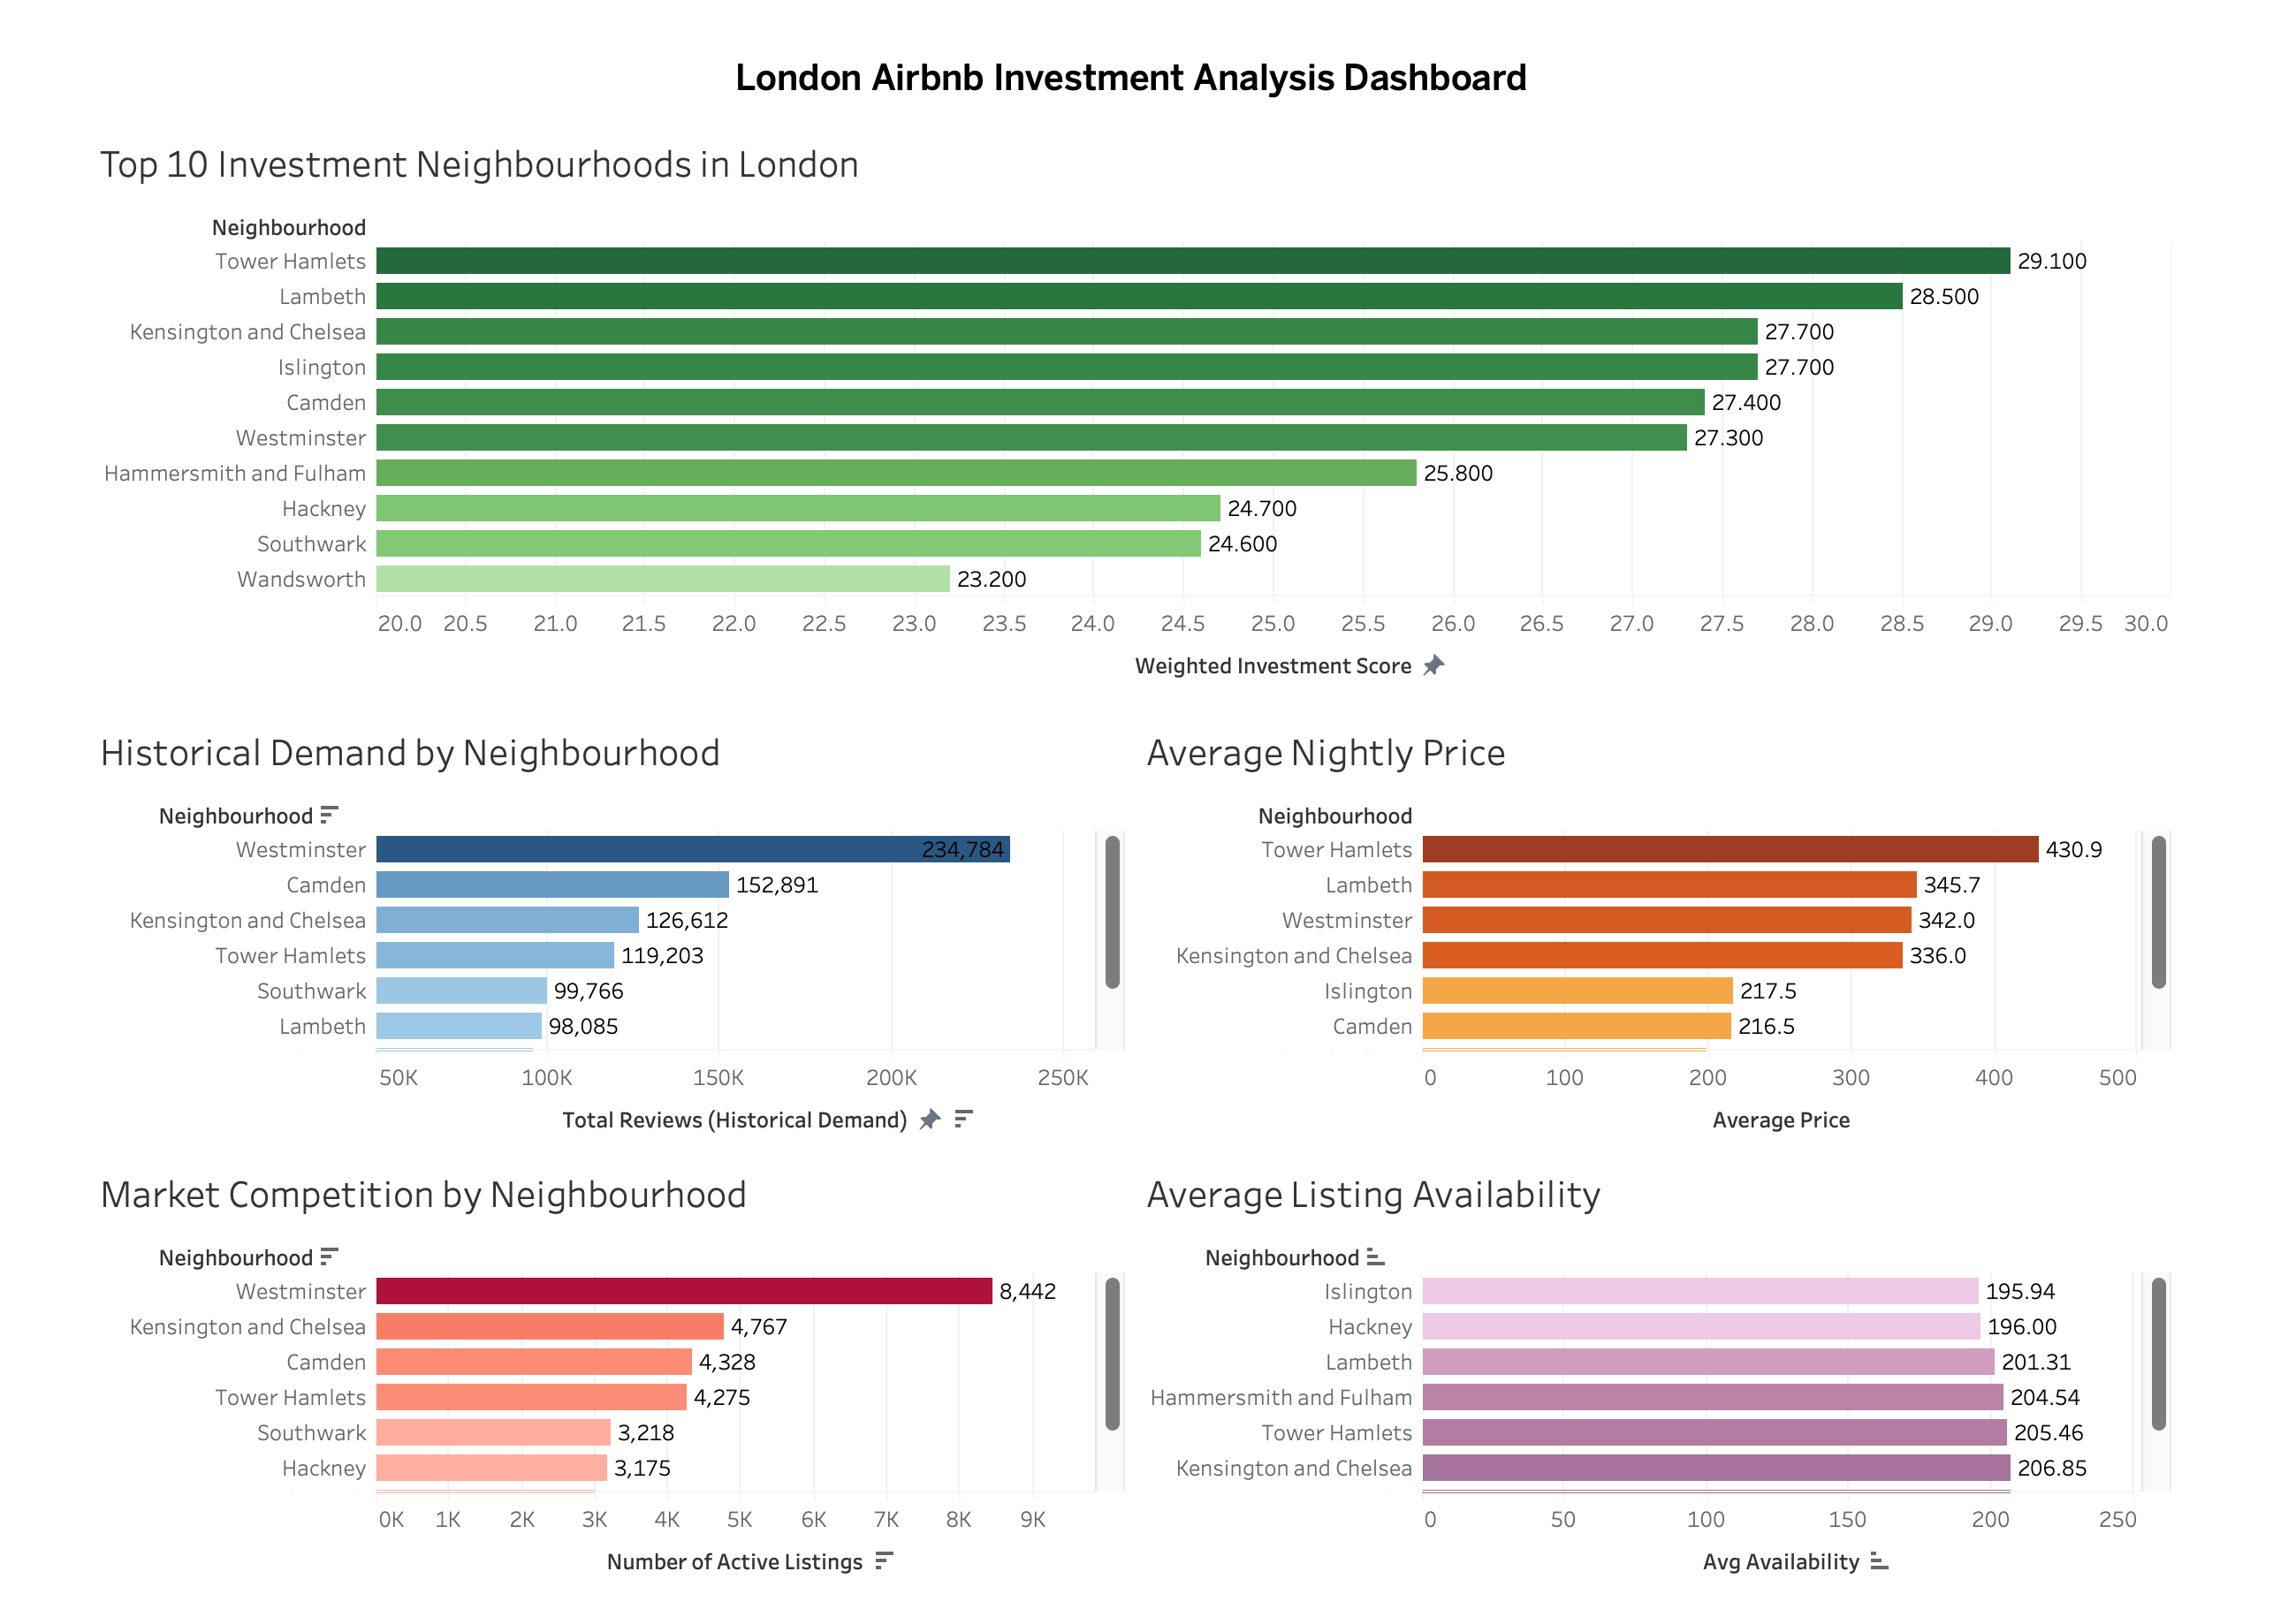

Layout of this report page (visuals, bound fields, positions):
{"tool":"tableau","page":{"name":"Dashboard 1","canvas":[1200,900],"ordinal":0},"visuals":[{"type":"text","box":[8,8,1184,50.5]},{"type":"worksheet","title":"Top 10 Investment Neighbourhoods in London","mark":"Bar","rows":["neighbourhood"],"cols":["investment_score"],"box":[8,58.5,1184,333]},{"type":"worksheet","title":"Historical Demand by Neighbourhood","mark":"Automatic","rows":["neighbourhood"],"cols":["demand"],"box":[8,391.5,592,250.2]},{"type":"worksheet","title":"Average Nightly Price","mark":"Automatic","rows":["neighbourhood"],"cols":["avg_price"],"box":[600,391.5,592,250.2]},{"type":"worksheet","title":"Market Competition by Neighbourhood","mark":"Automatic","rows":["neighbourhood"],"cols":["total_listings"],"box":[8,641.8,592,250.2]},{"type":"worksheet","title":"Average Listing Availability","mark":"Automatic","rows":["neighbourhood"],"cols":["avg_availability"],"box":[600,641.8,592,250.2]}]}

Visuals, with their boxes on the page's 1200x900 design canvas (x1, y1, x2, y2). These are canvas units, not pixel positions in the 2296x1617 screenshot, which may show the page scaled, cropped or inside an application window:
text: 8/8/1192/58
"Top 10 Investment Neighbourhoods in London" worksheet (Bar marks): 8/58/1192/392
"Historical Demand by Neighbourhood" worksheet: 8/392/600/642
"Average Nightly Price" worksheet: 600/392/1192/642
"Market Competition by Neighbourhood" worksheet: 8/642/600/892
"Average Listing Availability" worksheet: 600/642/1192/892
